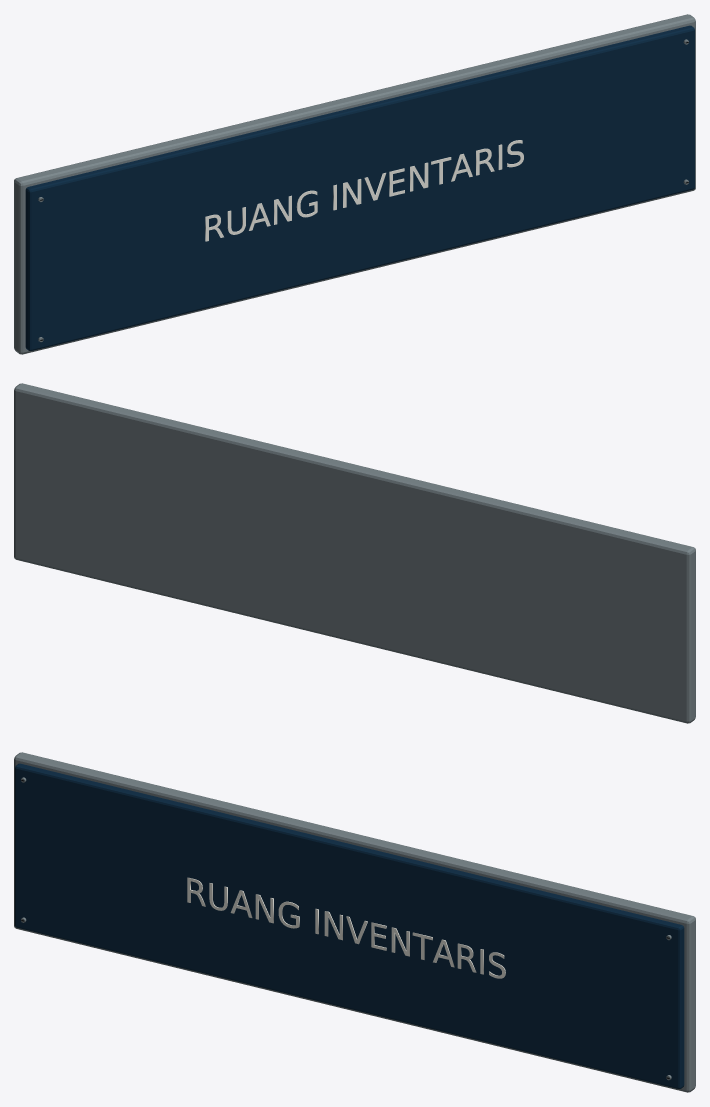
The model's file is OAA_Papan_Ruang_Ruang_Inventaris.fbx.
The picture shows the model from 3 angles, top to bottom: view 1: azimuth 30°, elevation 25°; view 2: azimuth 150°, elevation 25°; view 3: azimuth 330°, elevation 25°; orthographic projection.
Visible parts, largest first — view 1: Body; view 2: Body; view 3: Body.
Boxes of the visible parts, x1,y1,x2,y2 form: Body: (14,14,695,354); Body: (14,383,695,723); Body: (14,752,695,1092).
Bounding box in the file's own units: 0.9 × 0.22 × 0.0312.
